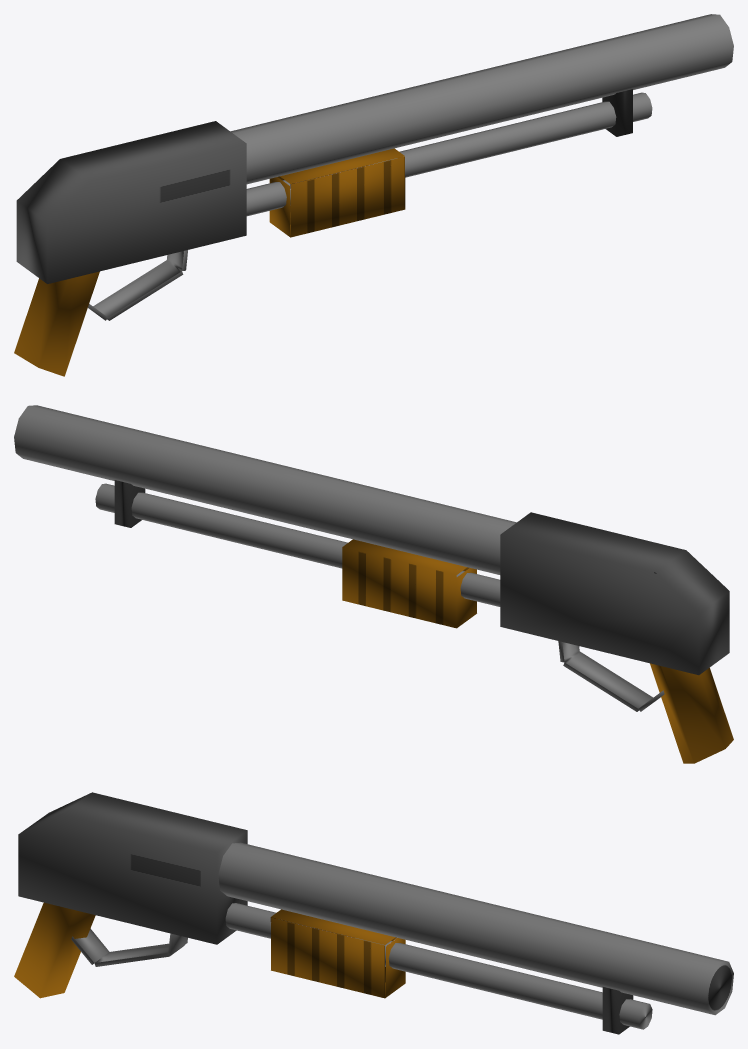
The model's file is escopeta2.fbx.
3 views of the same model, one above another, from view 1: azimuth 30°, elevation 25°; view 2: azimuth 150°, elevation 25°; view 3: azimuth 330°, elevation 25° (orthographic).
Visible parts, largest first — view 1: Cylinder, Cube, Cube_001, Cylinder_004, Cylinder_002, Cylinder_003, Cube_002; view 2: Cylinder, Cube, Cube_001, Cylinder_004, Cylinder_002, Cylinder_003, Cube_002; view 3: Cylinder, Cube, Cylinder_004, Cube_001, Cylinder_002, Cylinder_003, Cube_002.
Part boxes in pixels (<box>): Cylinder: <box>230,14,733,184</box>; Cube: <box>16,121,246,283</box>; Cube_001: <box>269,148,405,237</box>; Cylinder_004: <box>246,92,652,216</box>; Cylinder_002: <box>14,271,99,376</box>; Cylinder_003: <box>88,250,187,320</box>; Cube_002: <box>602,89,632,136</box>; Cylinder: <box>14,405,516,574</box>; Cube: <box>500,512,729,675</box>; Cube_001: <box>342,539,476,628</box>; Cylinder_004: <box>95,483,500,606</box>; Cylinder_002: <box>650,663,733,763</box>; Cylinder_003: <box>558,641,664,711</box>; Cube_002: <box>114,480,145,527</box>; Cylinder: <box>218,842,733,1015</box>; Cube: <box>18,792,247,944</box>; Cylinder_004: <box>225,903,652,1029</box>; Cube_001: <box>270,909,405,998</box>; Cylinder_002: <box>14,902,95,998</box>; Cylinder_003: <box>71,928,187,966</box>; Cube_002: <box>602,987,633,1034</box>.
Size of the model in its own units: 5.59 by 1.49 by 0.4237.
Materials: 7 (7 with a texture image).
